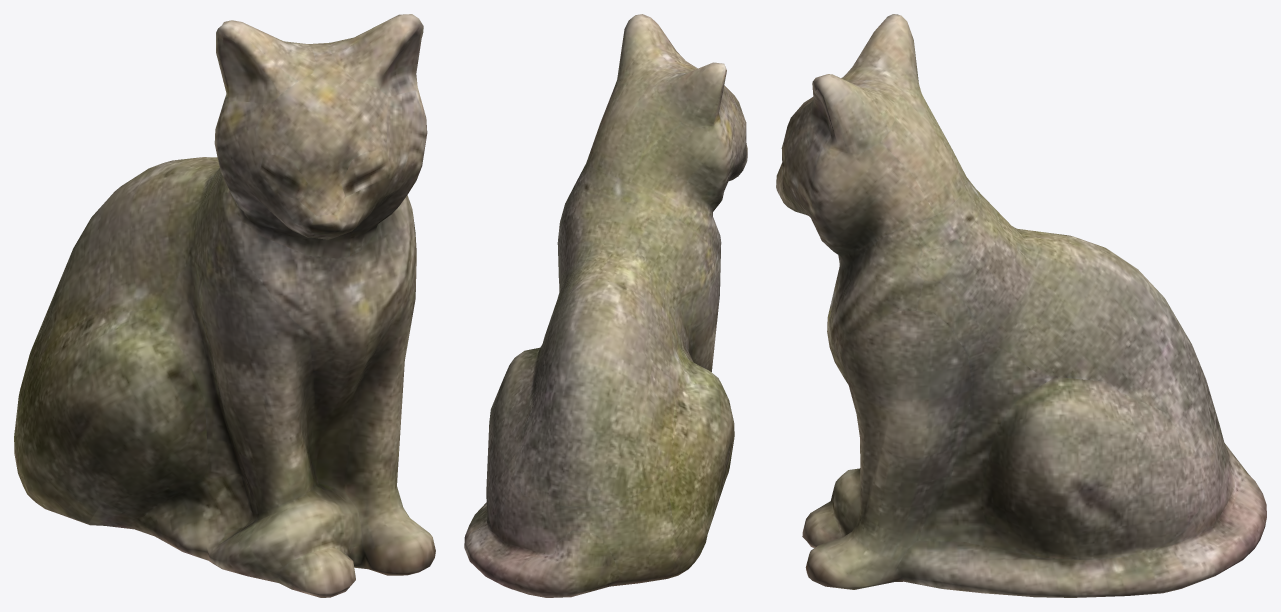
File: concrete_cat_statue.glb
3 renders of one model, left to right at view 1: azimuth 30°, elevation 25°; view 2: azimuth 150°, elevation 25°; view 3: azimuth 270°, elevation 25°, orthographic. The views are drawn at different scales.
Visible parts, largest first — view 1: concrete_cat_statue; view 2: concrete_cat_statue; view 3: concrete_cat_statue.
Part boxes in pixels (bbox=[...]): concrete_cat_statue: bbox=[14, 14, 435, 597]; concrete_cat_statue: bbox=[464, 14, 747, 597]; concrete_cat_statue: bbox=[776, 14, 1266, 597].
Size of the model in its own units: 0.1526 by 0.2828 by 0.2497.
1 material, 1 textured.
